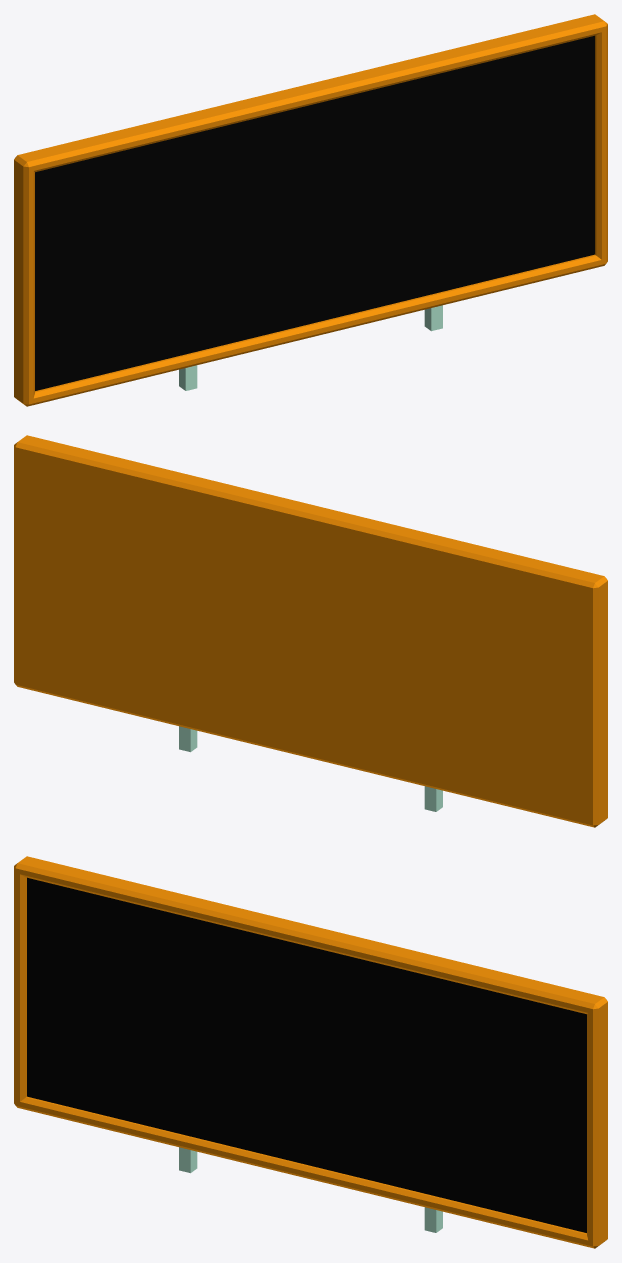
Rendered from Scoreboard.gltf.
3 renders of one model, top to bottom at view 1: azimuth 30°, elevation 25°; view 2: azimuth 150°, elevation 25°; view 3: azimuth 330°, elevation 25°, orthographic.
Visible parts, largest first — view 1: Scoreboard:1; view 2: Scoreboard:1; view 3: Scoreboard:1.
Boxes of the visible parts, box(x1,y1,x2,y2) form: Scoreboard:1: box(14, 14, 607, 406); Scoreboard:1: box(14, 435, 607, 827); Scoreboard:1: box(14, 856, 607, 1248).
Size of the model in its own units: 5000 by 2200 by 200.
